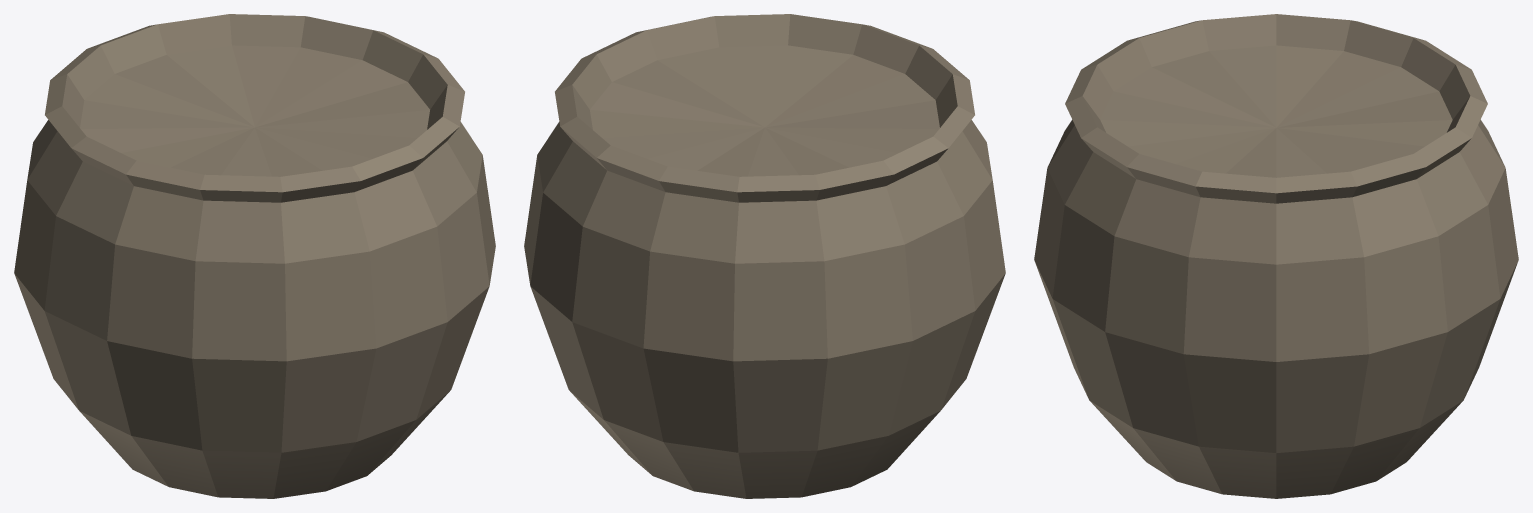
Rendered from cn_jar.glb.
3 views of the same model, side by side, from view 1: azimuth 30°, elevation 25°; view 2: azimuth 150°, elevation 25°; view 3: azimuth 270°, elevation 25° (orthographic).
Visible parts, largest first — view 1: cn_jar; view 2: cn_jar; view 3: cn_jar.
Boxes of the visible parts, left/top/right/bottom form: cn_jar: left=14, top=14, right=495, bottom=498; cn_jar: left=524, top=14, right=1005, bottom=498; cn_jar: left=1034, top=14, right=1518, bottom=498.
Bounding box in the file's own units: 1.1 × 0.86 × 1.1.
